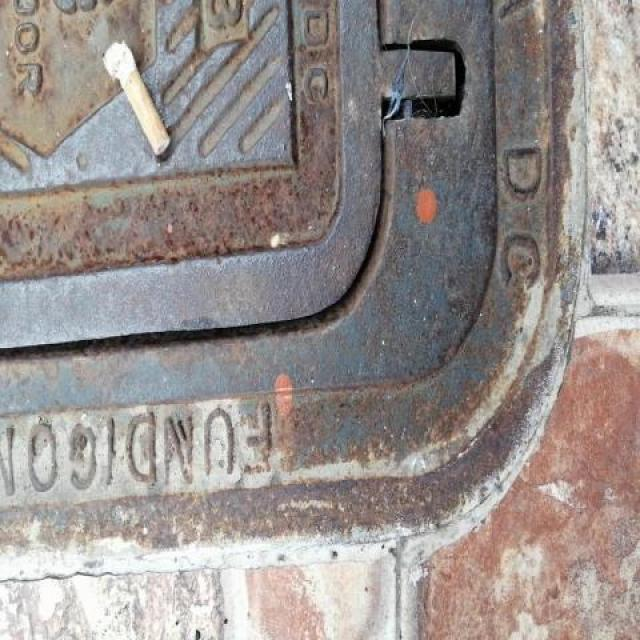non-organic waste: (97, 35, 175, 164)
